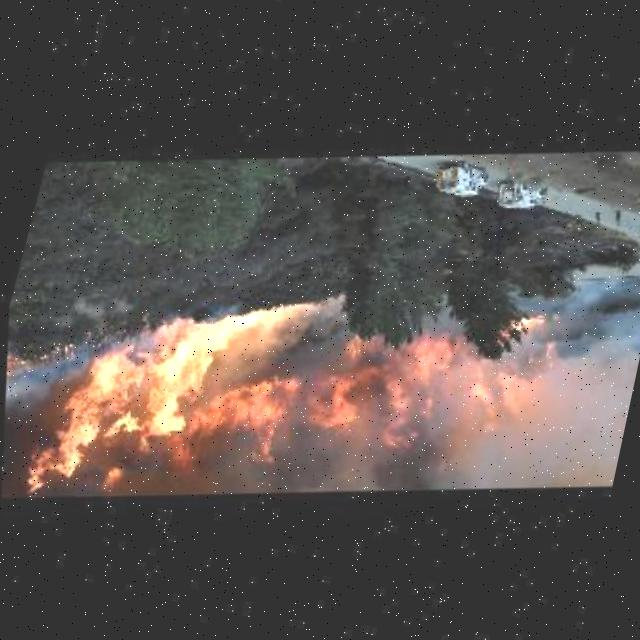fire: (30, 302, 230, 502), (313, 314, 523, 460), (198, 290, 329, 410)
